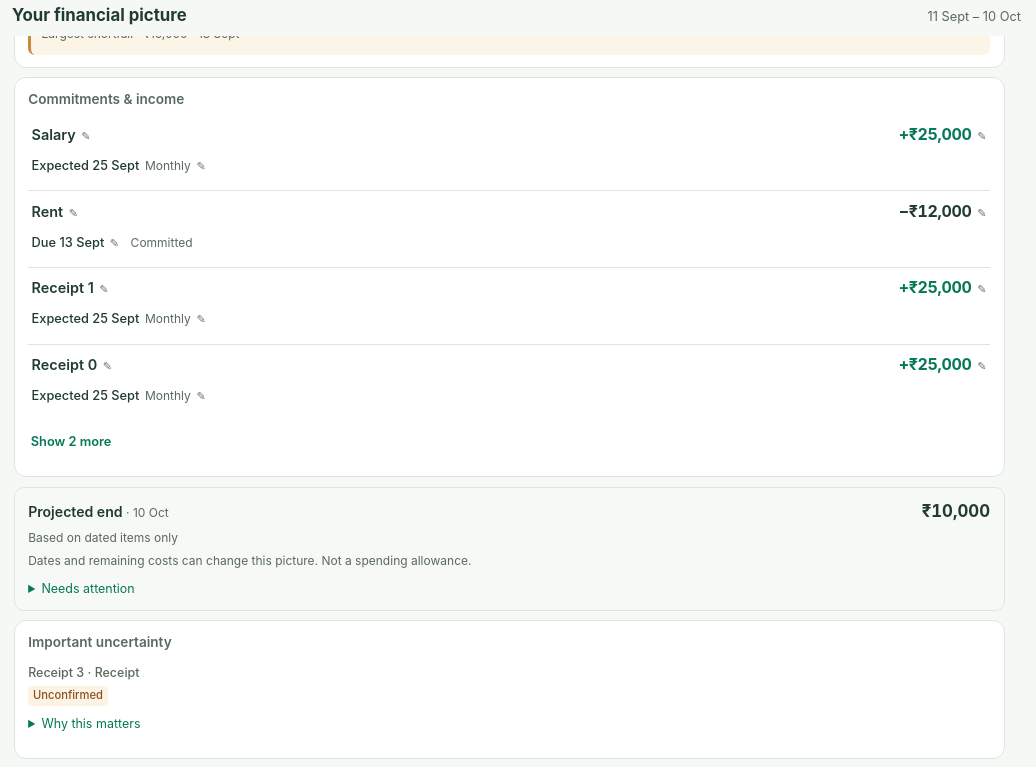
Scenario: financial companion › keeps the supplied priority order, four rows and one deduplicated material issue
This screenshot has width=1036, height=767.
(page scrolled)
Expected: the element "Important uncertainty" shows "Receipt 3 · Receipt", [14,620,1005,759]
Expected: the text "Receipt 3 is not assured and cannot fund the earlier payment." is not shown
Click the heading "Why this matters" at (91,724), box [41,716,140,731]
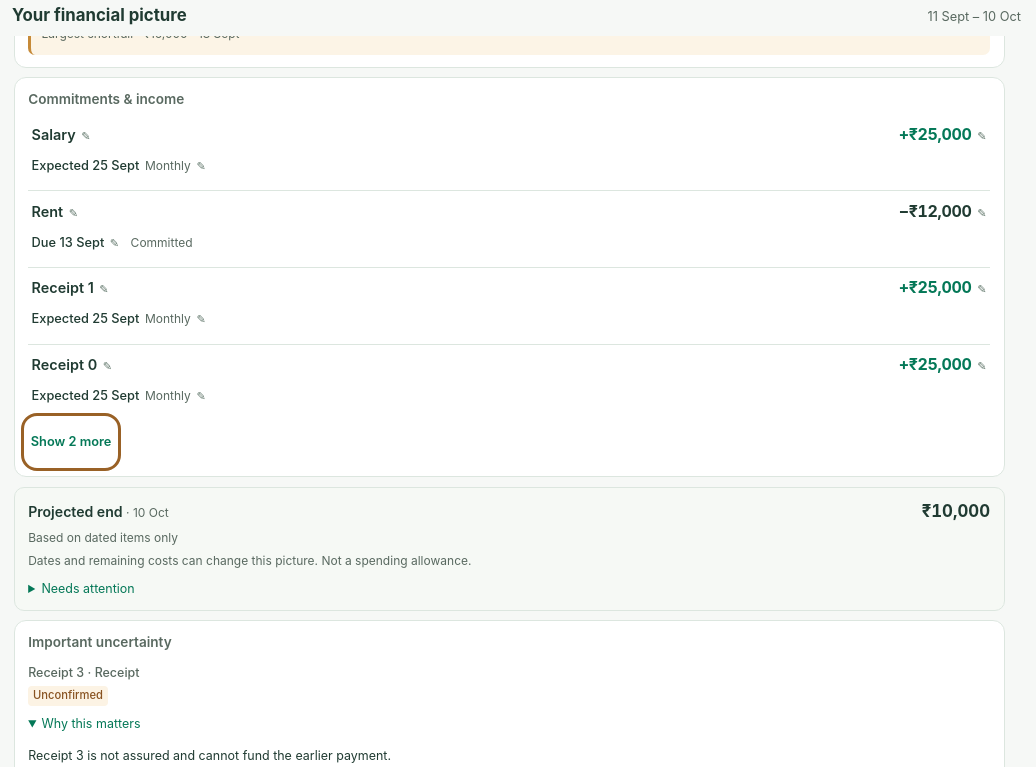
Now the text "Receipt 3 is not assured and cannot fund the earlier payment." is shown, box [28,746,391,765]
Press Enter
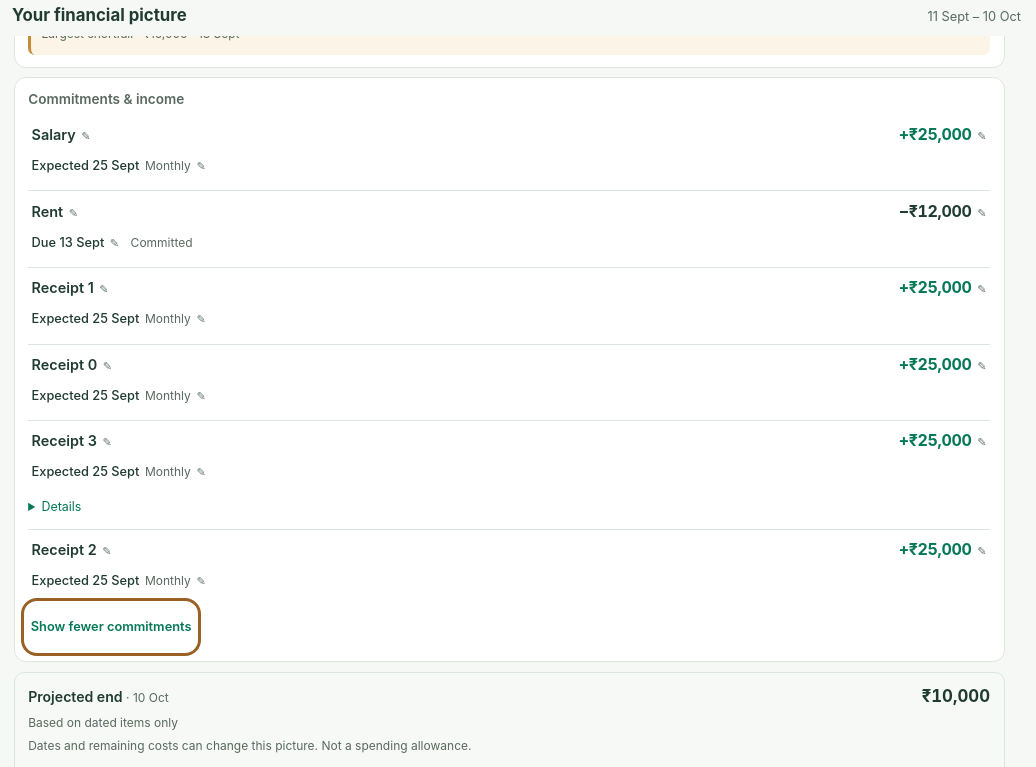
Now the number of list items is 6, box [28,115,990,190]; [28,190,990,267]; [28,267,990,344]; [28,344,990,420]; [28,420,990,529]; [28,529,990,605]
Now the heading "Important uncertainty" is gone
Now the button "Show fewer commitments" is expanded, box [28,605,194,649]
